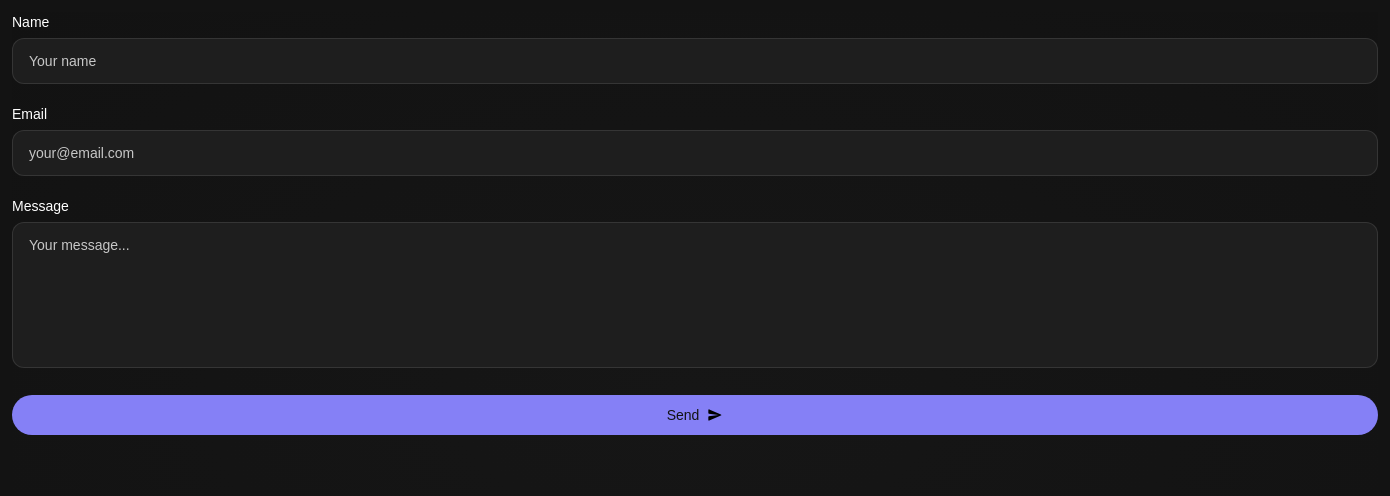
ContactForm in en › falls back to its own retry message when the request itself fails
The image size is (1390, 496).
In the field labelled "Name": (695, 61) [12,38,1378,84], type "Alex Martin"
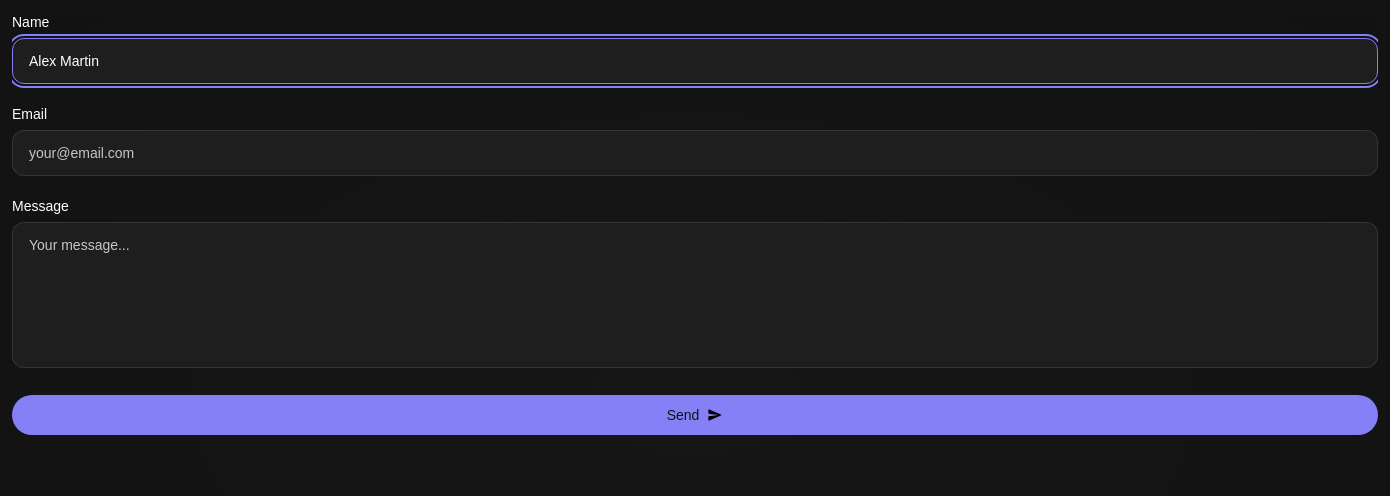
In the field labelled "Email": (695, 153) [12,130,1378,176], type "alex@example.com"
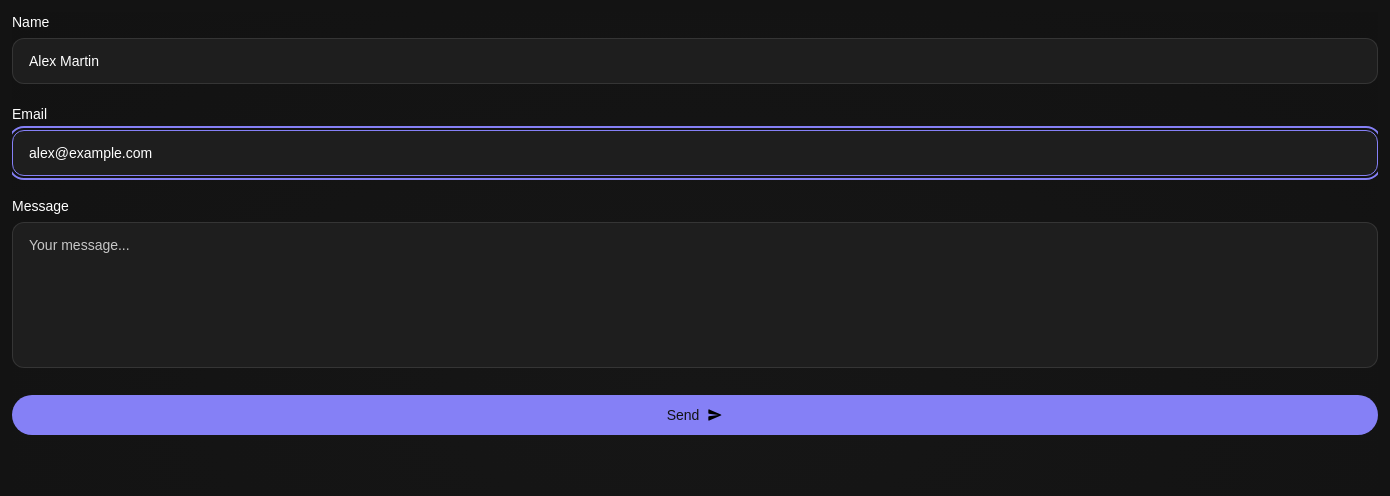
In the text box labelled "Message": (695, 295) [12,222,1378,368], type "Bonjour, je souhaite échanger."
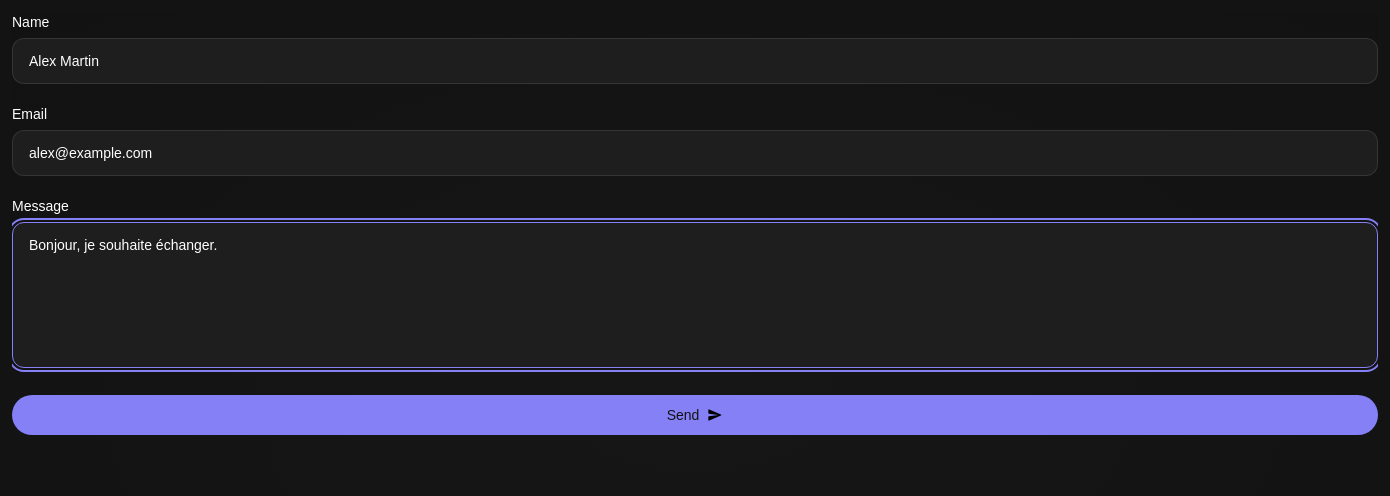
Click the button "Send": (695, 415) [12,395,1378,435]
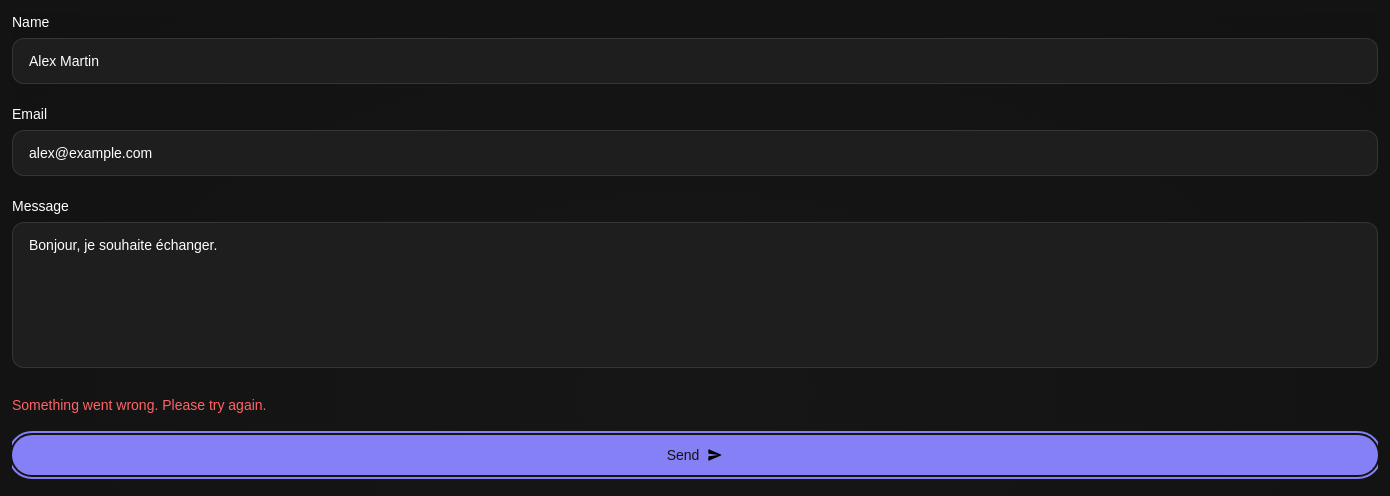
Now the text "Something went wrong. Please try again." is shown, box [12,397,266,413]
